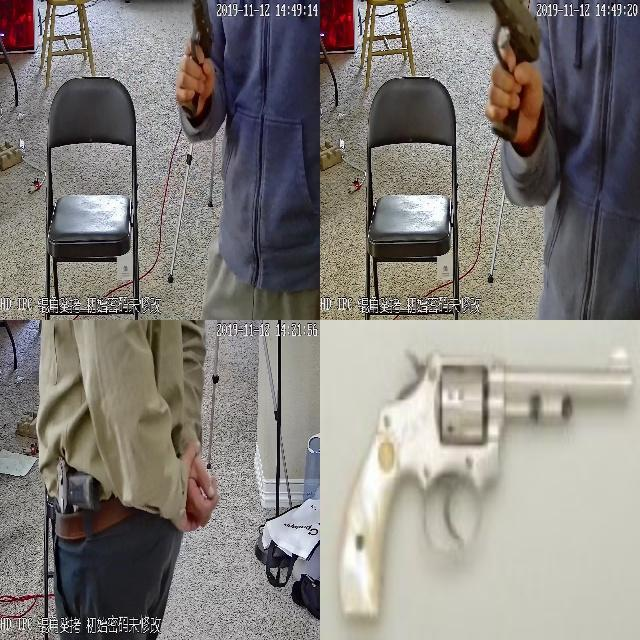gun-knife-thesis - v11 Yolov5 augmented: (337, 343, 629, 631), (481, 1, 545, 152), (172, 0, 217, 122), (54, 453, 100, 517)
